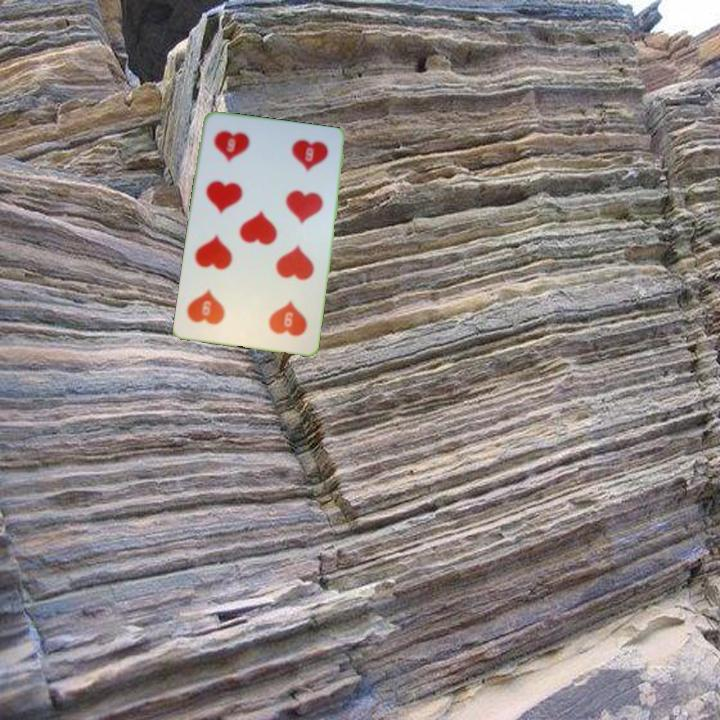h_9.png: (203, 120, 277, 186), (243, 280, 317, 346)
